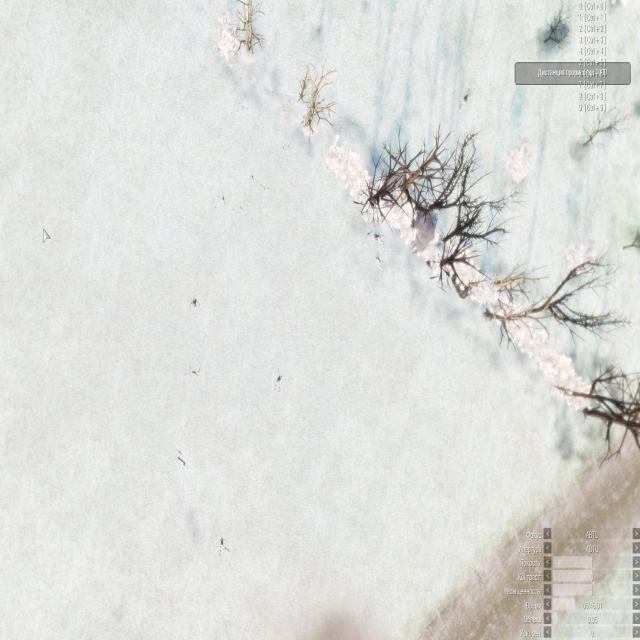infantry: (172, 446, 202, 487), (216, 533, 245, 574), (214, 184, 240, 223), (188, 361, 214, 399), (179, 286, 208, 320), (268, 368, 294, 402), (456, 82, 479, 118), (364, 226, 391, 254), (368, 251, 391, 281)
